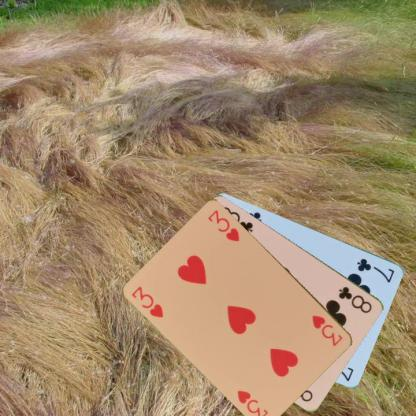3h: (129, 283, 165, 319), (310, 312, 344, 348)
7c: (355, 256, 396, 284)
8c: (336, 284, 374, 315)
